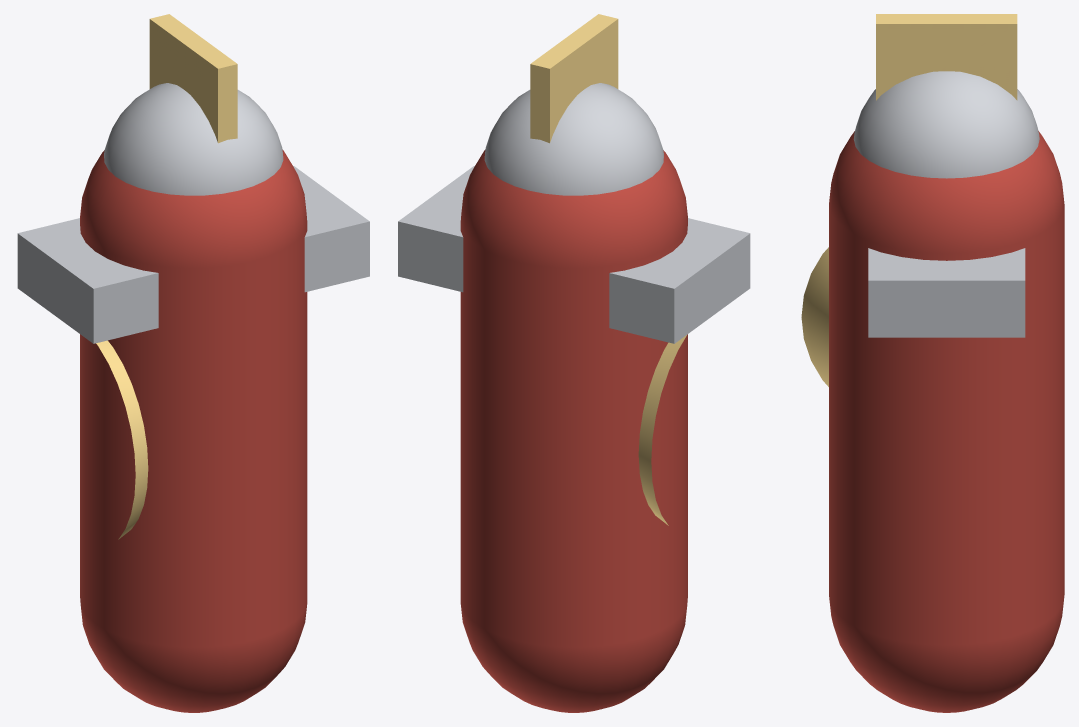
File: hero.glb
The picture shows the model from 3 angles, left to right: view 1: azimuth 30°, elevation 25°; view 2: azimuth 150°, elevation 25°; view 3: azimuth 270°, elevation 25°; orthographic projection. The views are drawn at different scales.
Visible parts, largest first — view 1: hero, pauldrons, helm, crest, shield; view 2: hero, pauldrons, helm, crest, shield; view 3: hero, helm, pauldrons, crest, shield.
Boxes of the visible parts, left/top/right/bottom form: hero: left=80, top=150, right=307, bottom=712; pauldrons: left=17, top=166, right=369, bottom=343; helm: left=104, top=83, right=283, bottom=195; crest: left=149, top=14, right=237, bottom=143; shield: left=96, top=340, right=148, bottom=539; hero: left=460, top=150, right=687, bottom=712; pauldrons: left=398, top=166, right=750, bottom=343; helm: left=484, top=83, right=663, bottom=195; crest: left=530, top=14, right=618, bottom=143; shield: left=638, top=335, right=686, bottom=525; hero: left=829, top=131, right=1064, bottom=712; helm: left=853, top=71, right=1039, bottom=178; pauldrons: left=868, top=248, right=1025, bottom=337; crest: left=876, top=14, right=1017, bottom=100; shield: left=801, top=247, right=828, bottom=386.
Bounding box in the file's own units: 0.84 × 1.92 × 0.67.
